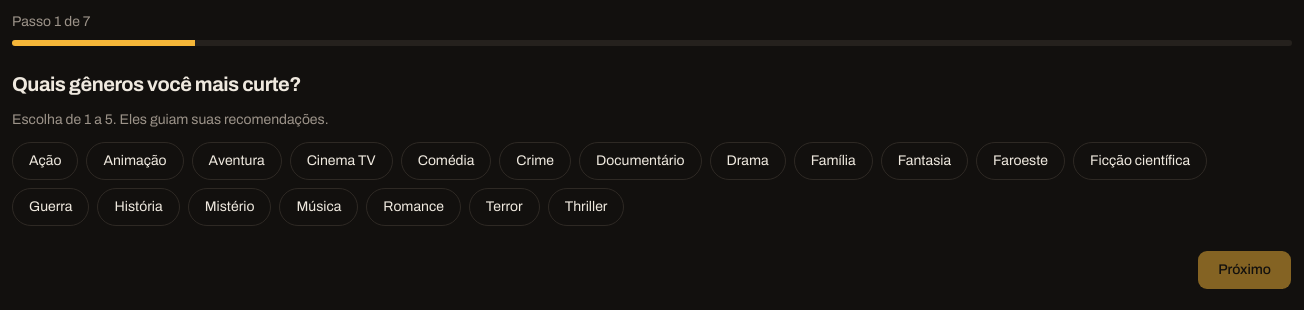
OnboardingWizard › um gênero evitado que vira favorito sai dos evitados
The width and height of the screenshot is (1304, 310).
Click the button "Ação".
click(45, 161)  # box left=12, top=142, right=78, bottom=180
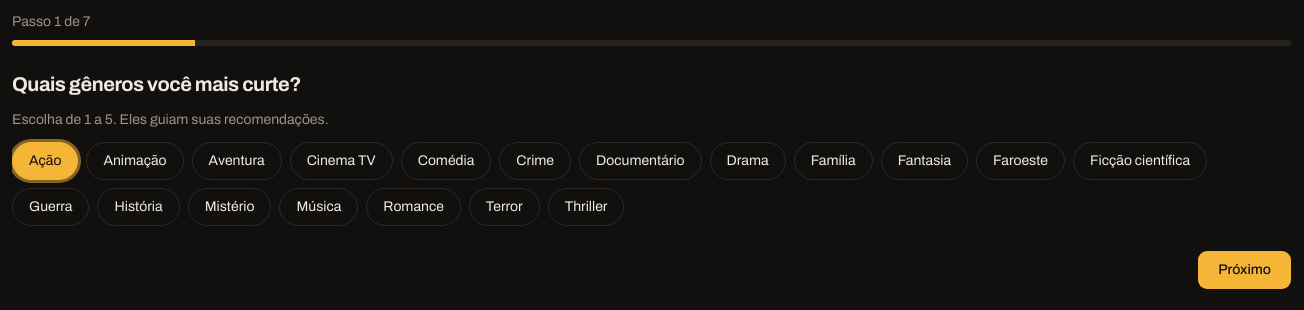
Click the button "Próximo".
click(1245, 270)  # box left=1197, top=250, right=1292, bottom=290
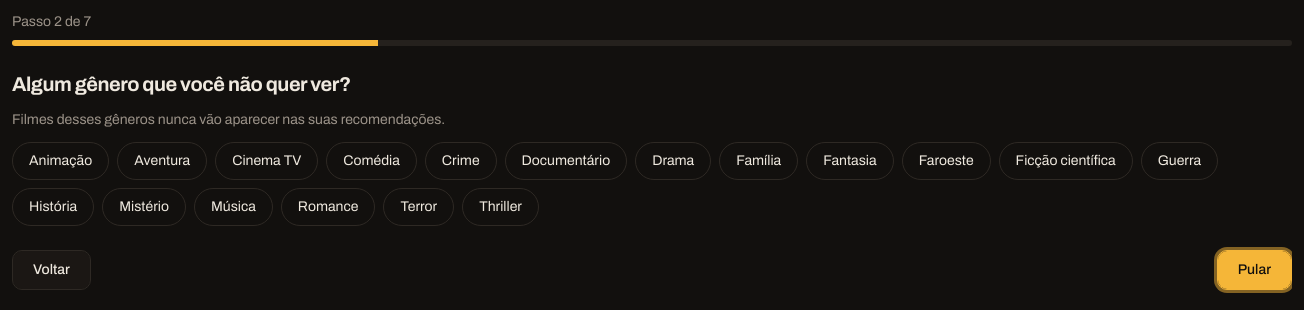
Click the button "Terror".
click(419, 207)  # box left=383, top=188, right=454, bottom=226
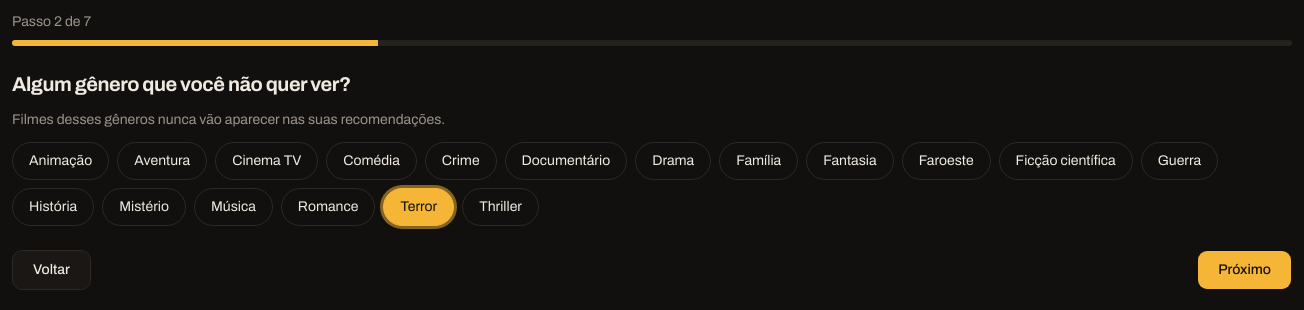
Click the button "Voltar".
click(51, 270)  # box left=12, top=250, right=91, bottom=290
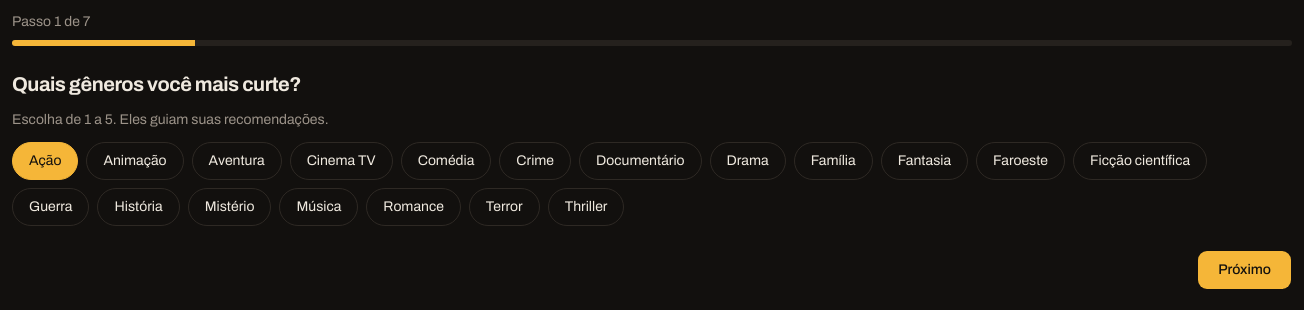
Click the button "Terror".
click(504, 207)  # box left=469, top=188, right=540, bottom=226
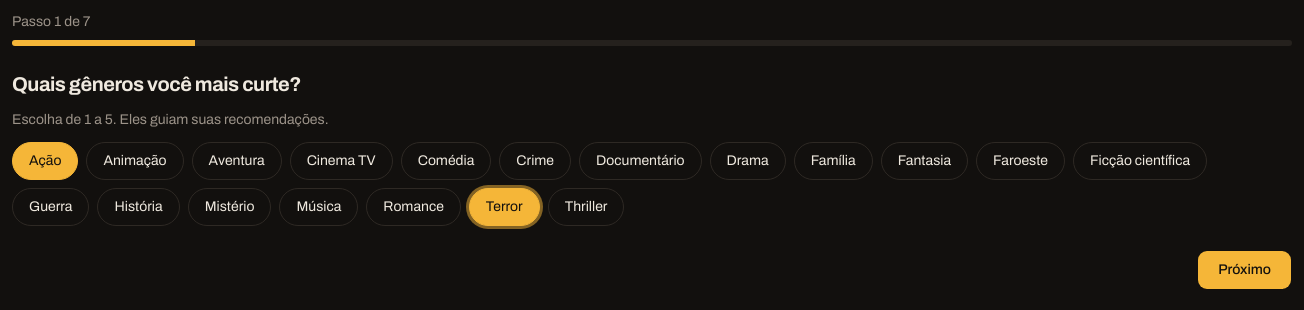
Click the button "Próximo".
click(1245, 270)  # box left=1197, top=250, right=1292, bottom=290
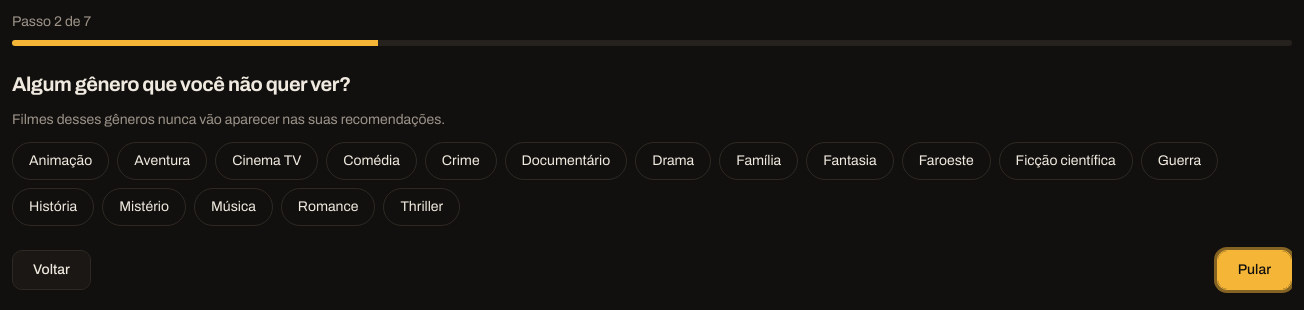
Expected: the button "Terror" is gone
Expected: the button "Pular" is shown, left=1217, top=250, right=1292, bottom=290
